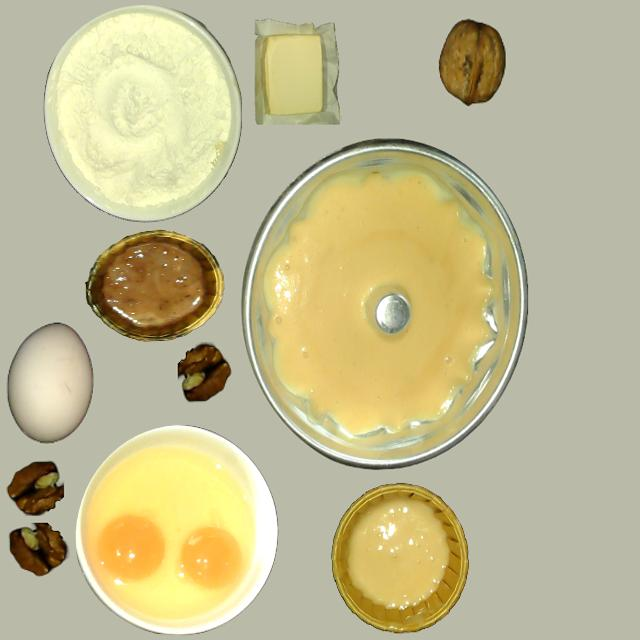Egg: (99, 516, 164, 580), (179, 528, 239, 587)
Flour: (45, 4, 239, 219)
Walnut: (439, 20, 505, 106)
